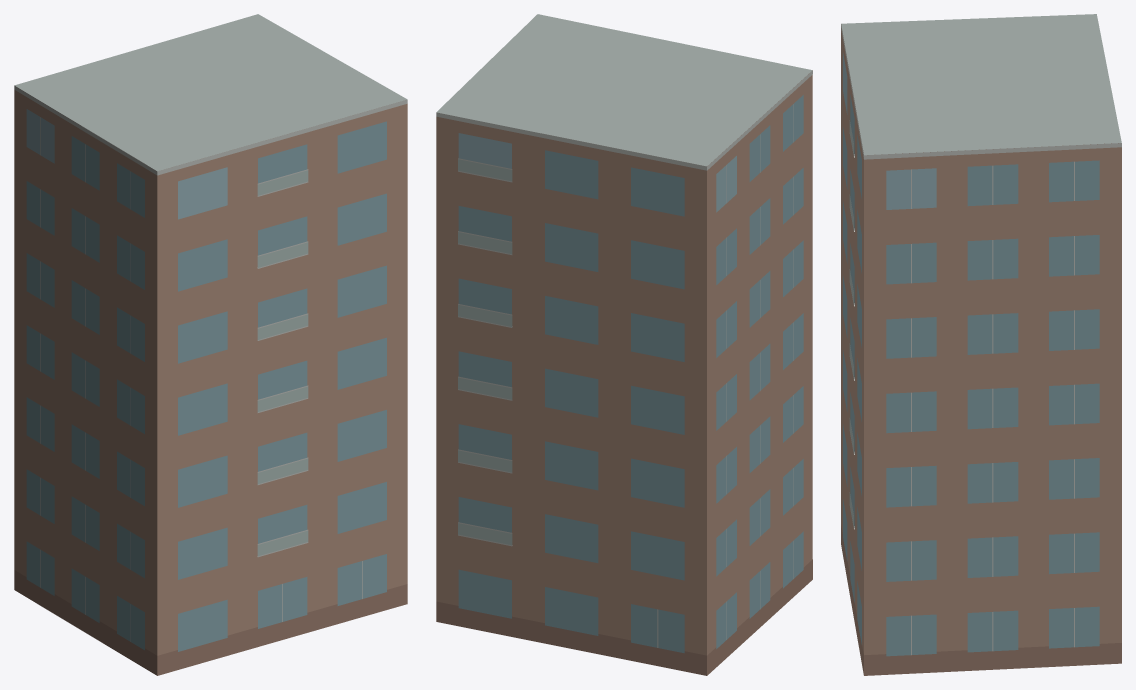
Rendered from survey-upis-32850133.glb.
3 views of the same model, side by side, from view 1: azimuth 30°, elevation 25°; view 2: azimuth 150°, elevation 25°; view 3: azimuth 270°, elevation 25° (orthographic). The views are drawn at different scales.
Parts seen in each view (by area): view 1: survey-upis-32850133.tmp; view 2: survey-upis-32850133.tmp; view 3: survey-upis-32850133.tmp.
Boxes of the visible parts, x1,y1,x2,y2 form: survey-upis-32850133.tmp: (14,14,407,675); survey-upis-32850133.tmp: (436,14,812,675); survey-upis-32850133.tmp: (841,14,1121,675).
Bounding box in the file's own units: 17.12 × 29.4 × 14.38.
